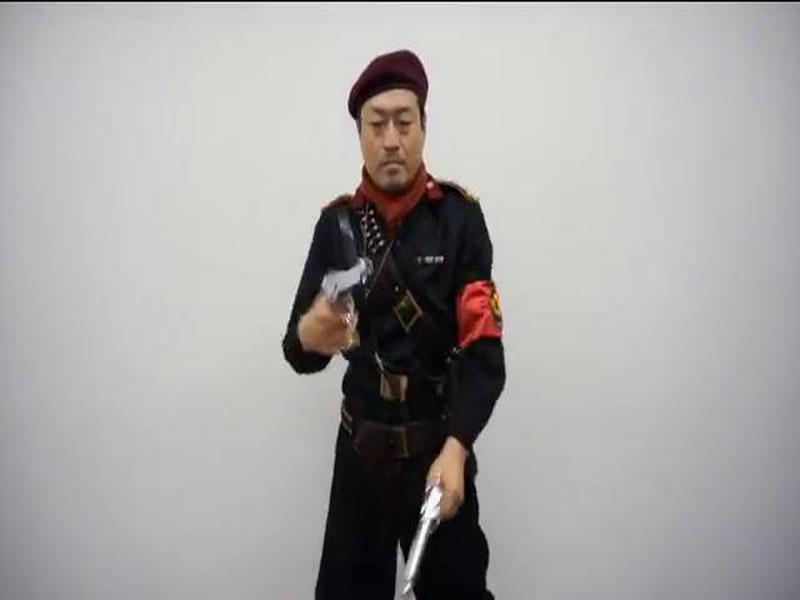Revolver: (396, 474, 465, 600), (308, 256, 382, 340)
